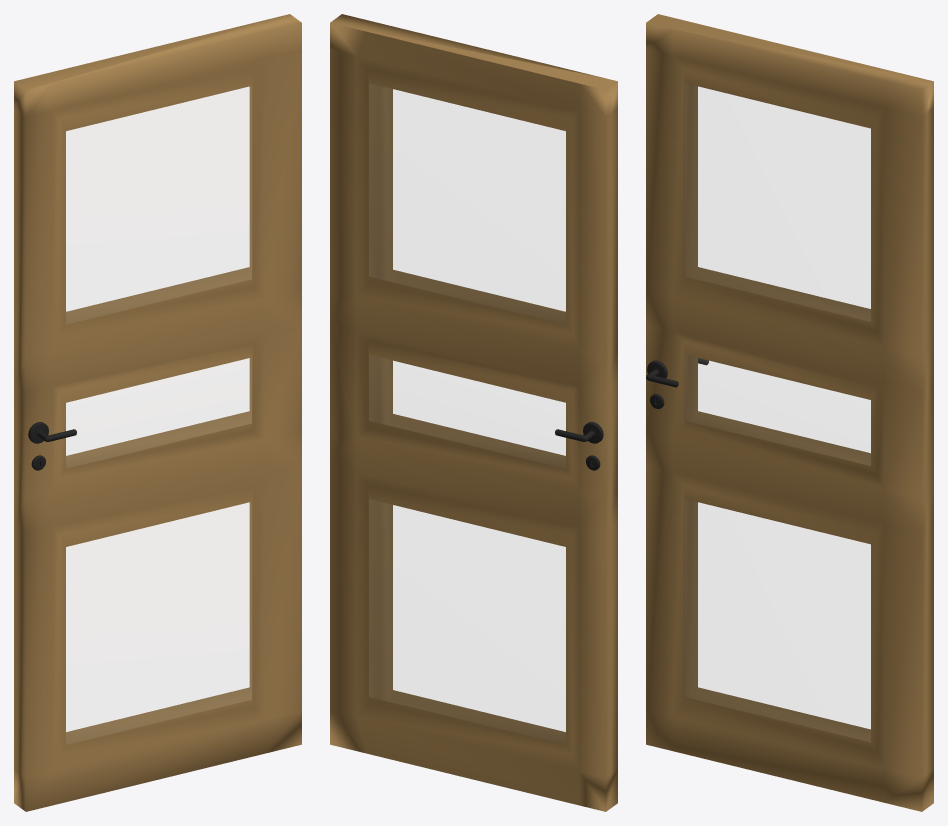
3 renders of one model, left to right at view 1: azimuth 30°, elevation 25°; view 2: azimuth 150°, elevation 25°; view 3: azimuth 330°, elevation 25°, orthographic.
Parts seen in each view (by area): view 1: Door.018; view 2: Door.018; view 3: Door.018.
Boxes of the visible parts, box(x1,y1,x2,y2) form: Door.018: box(14, 14, 301, 811); Door.018: box(330, 14, 617, 811); Door.018: box(646, 14, 933, 811).
Size of what is drawn, in the model's own units: 0.8628 by 2.16 by 0.1816.
Materials: 3 (3 with a texture image).
